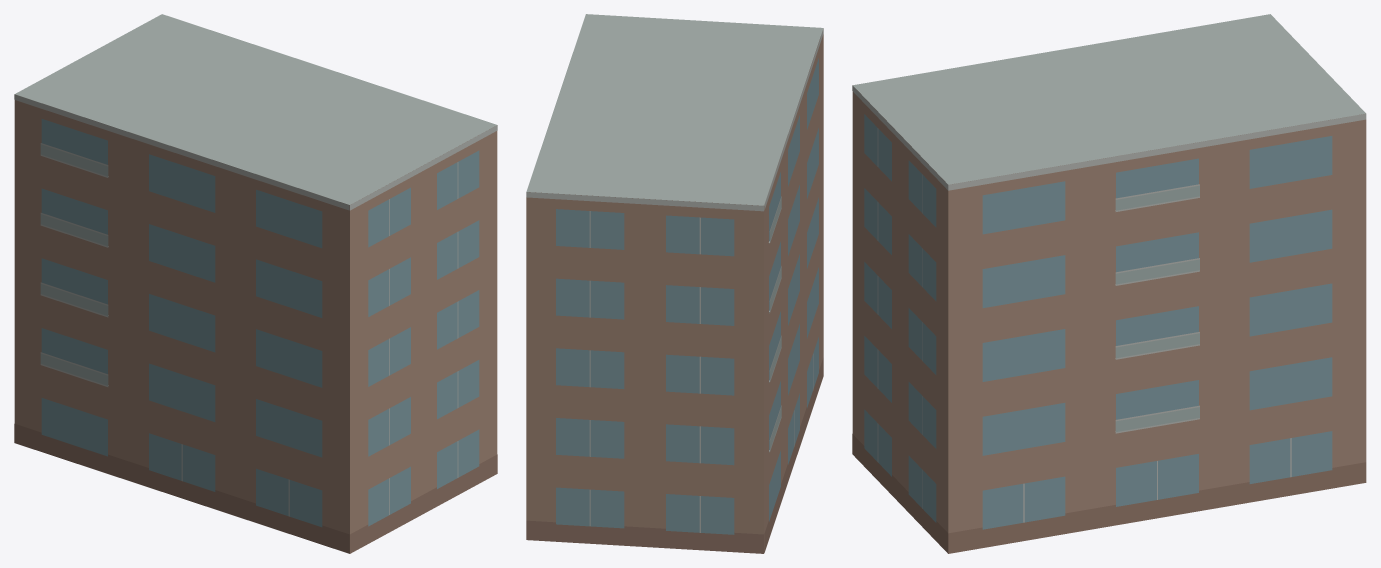
File: survey-upis-32740480.glb
3 views of the same model, side by side, from view 1: azimuth 30°, elevation 25°; view 2: azimuth 150°, elevation 25°; view 3: azimuth 270°, elevation 25° (orthographic). The views are drawn at different scales.
Parts seen in each view (by area): view 1: survey-upis-32740480.tmp; view 2: survey-upis-32740480.tmp; view 3: survey-upis-32740480.tmp.
Part boxes in pixels (left/top/right/bottom): survey-upis-32740480.tmp: left=14, top=14, right=497, bottom=553; survey-upis-32740480.tmp: left=526, top=14, right=823, bottom=553; survey-upis-32740480.tmp: left=852, top=14, right=1366, bottom=553.
Bounding box in the file's own units: 15.15 × 15.25 × 19.25.
